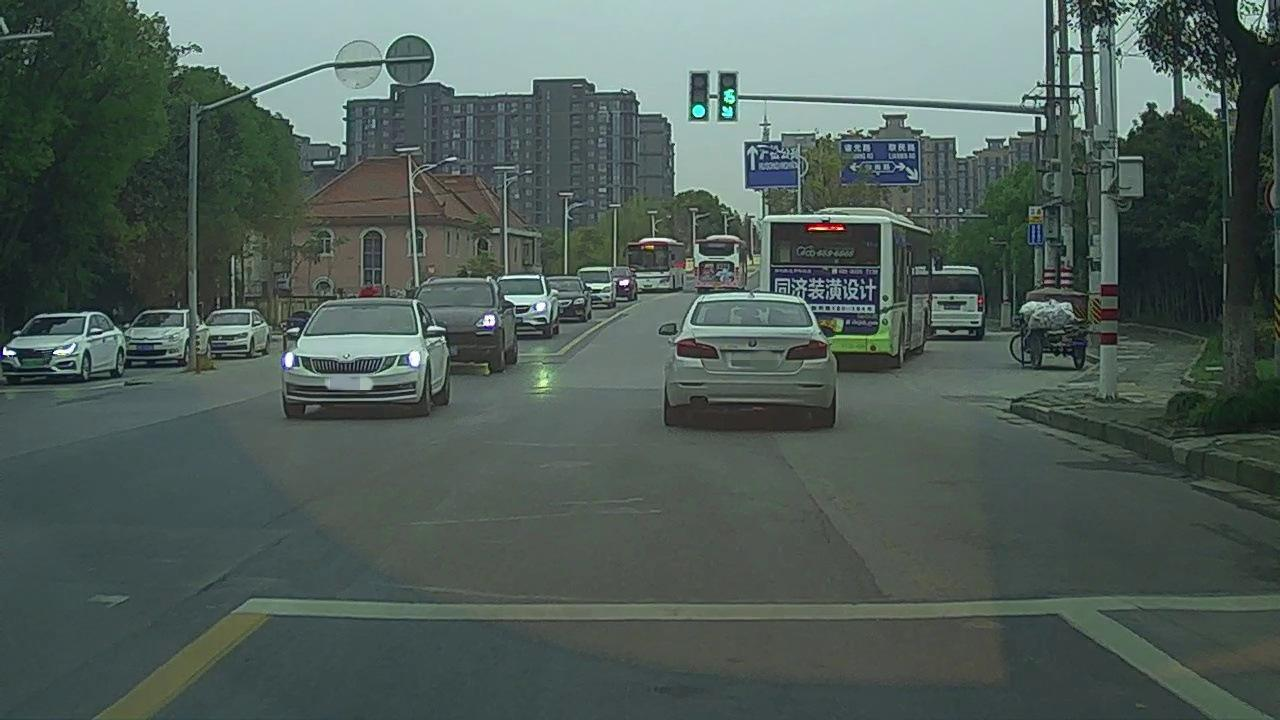traffic_light: (688, 72, 708, 120), (719, 71, 737, 119)
